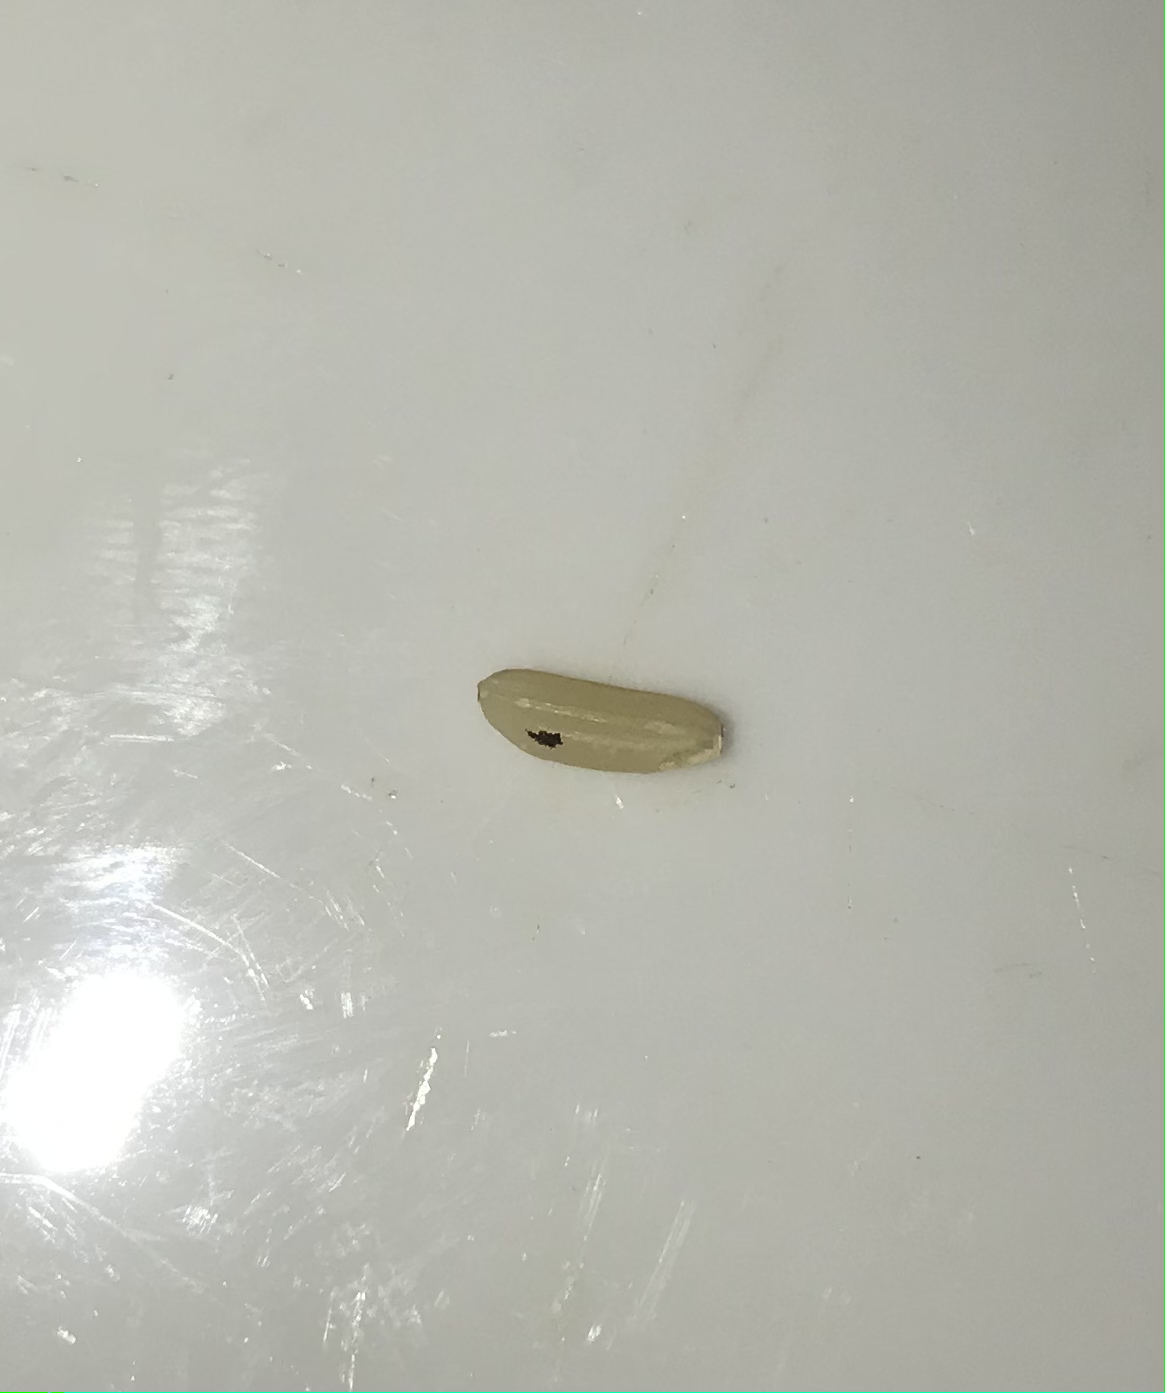Gao Lut Trang: (474, 657, 735, 799)
